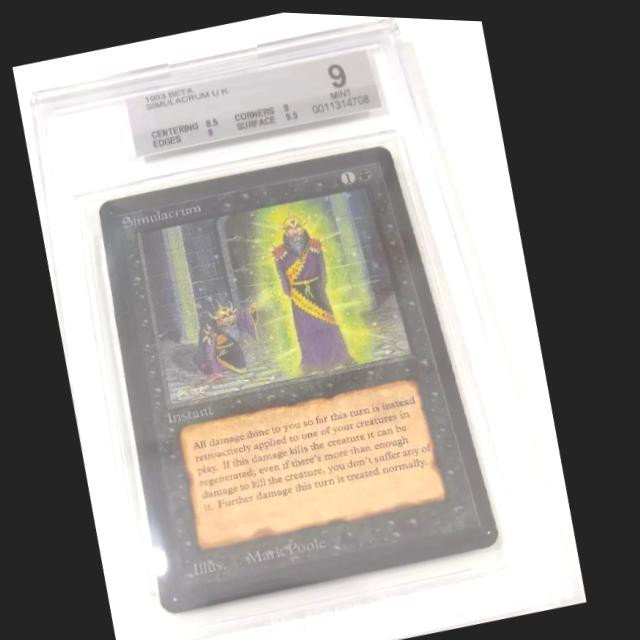bgs_label: (123, 41, 383, 157)
bgs_slab: (26, 13, 584, 640)
card: (97, 140, 510, 615)
